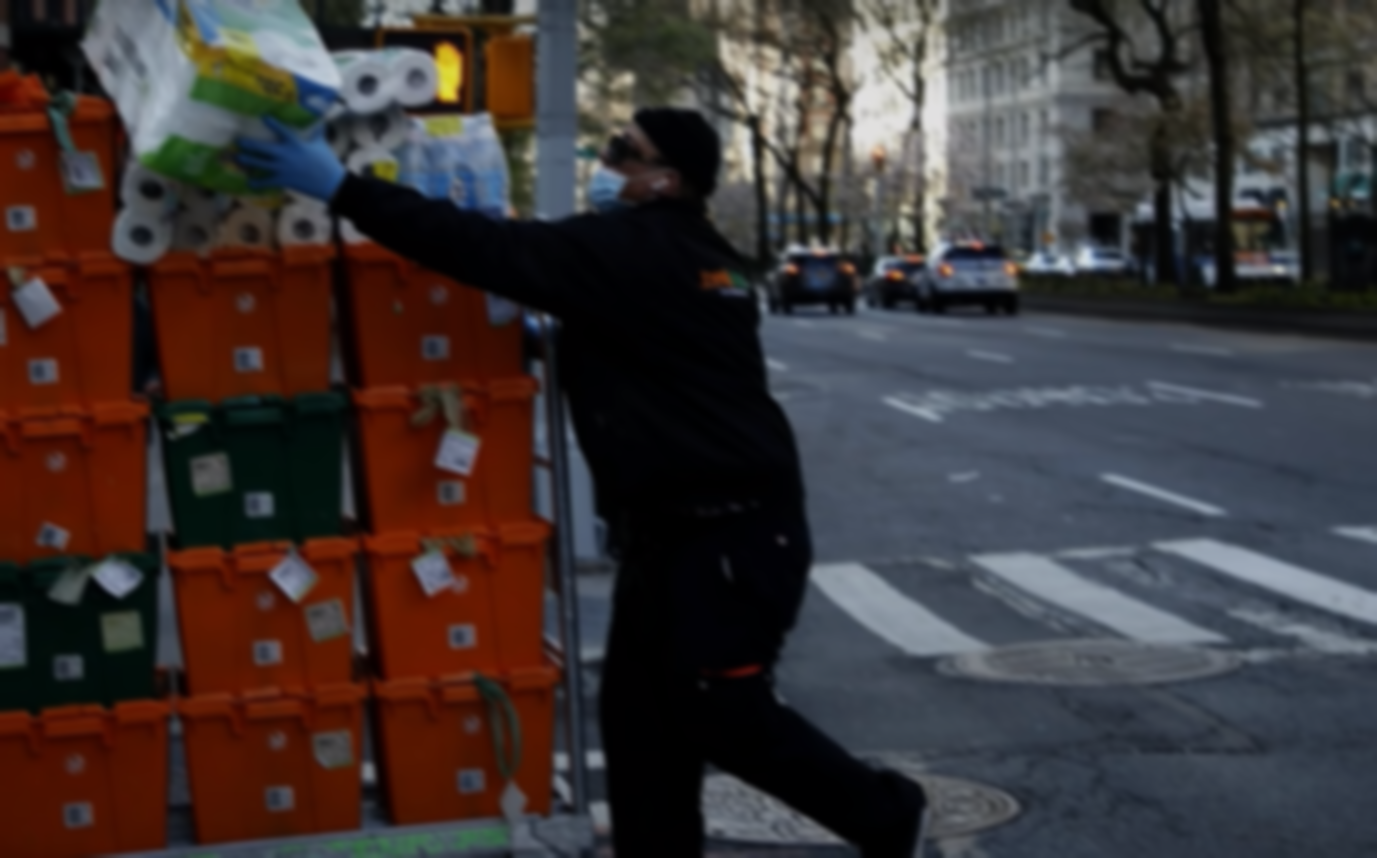mask_weared_incorrect: (586, 104, 718, 217)
